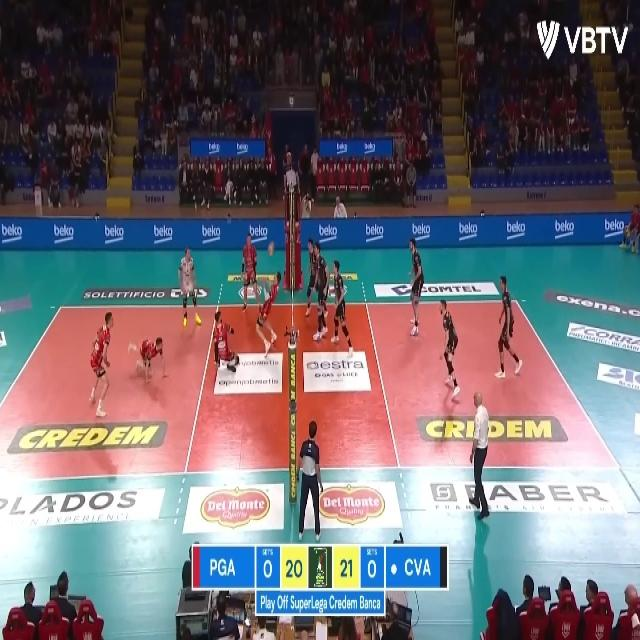volleyball court: (0, 297, 623, 476)
